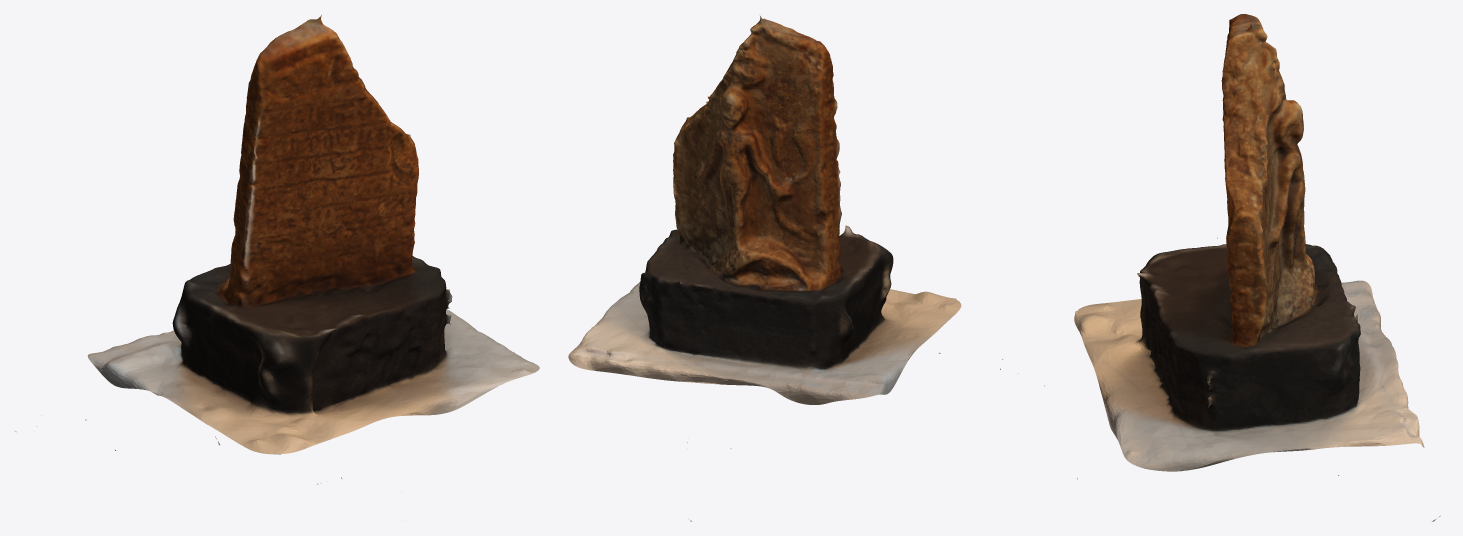
The model's file is Cippus.fbx.
3 views of the same model, side by side, from view 1: azimuth 30°, elevation 25°; view 2: azimuth 150°, elevation 25°; view 3: azimuth 270°, elevation 25° (orthographic). The views are drawn at different scales.
Visible parts, largest first — view 1: Texture_0; view 2: Texture_0; view 3: Texture_0.
Part boxes in pixels (<box>): Texture_0: <box>87,15,539,454</box>; Texture_0: <box>568,16,961,404</box>; Texture_0: <box>1074,14,1424,471</box>.
Bounding box in the file's own units: 2085 × 2065 × 1386.
